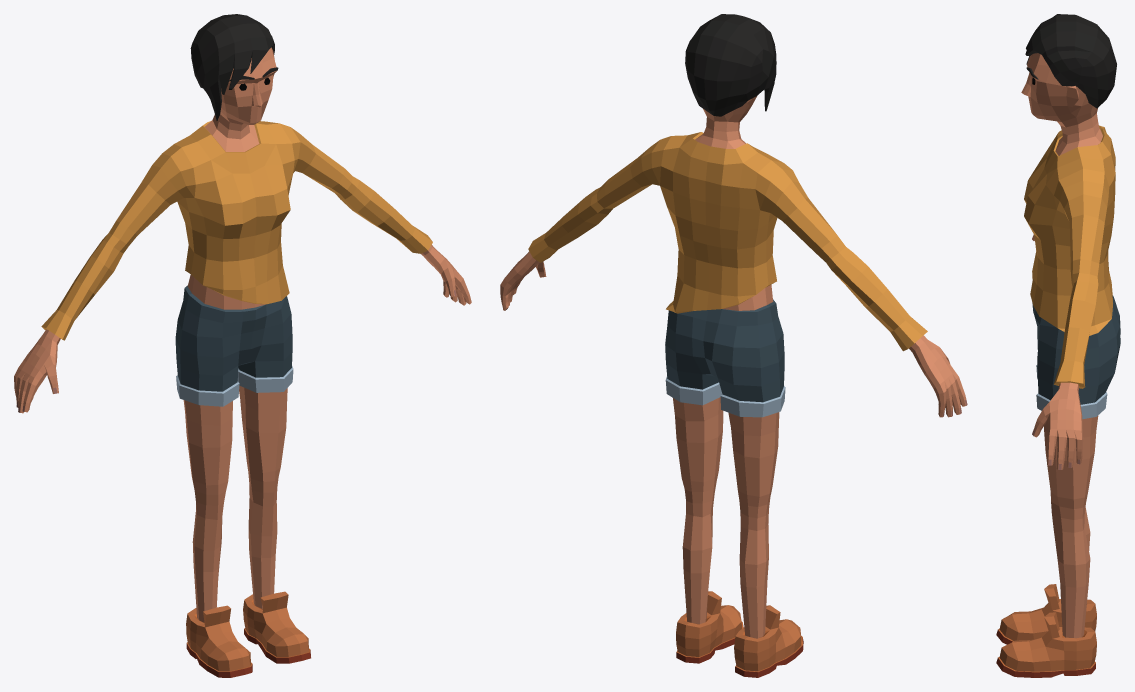
The model's file is PolyArt_Female_02.obj.
3 renders of one model, left to right at view 1: azimuth 30°, elevation 25°; view 2: azimuth 150°, elevation 25°; view 3: azimuth 270°, elevation 25°, orthographic. The views are drawn at different scales.
Visible parts, largest first — view 1: Body_02_Cube.015; view 2: Body_02_Cube.015; view 3: Body_02_Cube.015.
Boxes of the visible parts, bbox=[...] form: Body_02_Cube.015: bbox=[14, 14, 471, 677]; Body_02_Cube.015: bbox=[500, 14, 967, 677]; Body_02_Cube.015: bbox=[996, 14, 1120, 677].
Size of the model in its own units: 1.48 by 1.98 by 0.3527.
